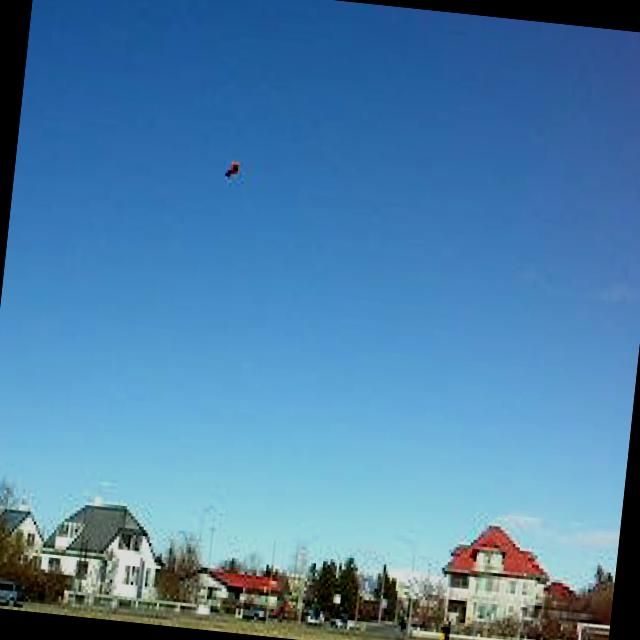Vehicle: (0, 574, 18, 607), (330, 612, 360, 630), (269, 602, 296, 620), (304, 608, 326, 625), (243, 604, 265, 618)
